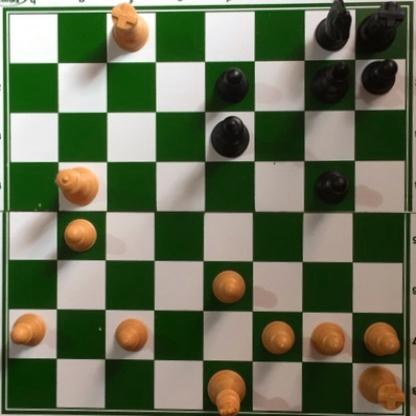black-bishop: (306, 58, 349, 104)
black-king: (209, 111, 251, 160)
black-knight: (312, 1, 354, 55)
black-pawn: (361, 57, 399, 95), (213, 67, 248, 105), (314, 170, 349, 205)
black-rook: (356, 1, 404, 54)
white-king: (205, 365, 247, 416)
white-pawn: (360, 319, 400, 359), (9, 308, 48, 348), (112, 314, 151, 354), (259, 319, 298, 358), (62, 216, 100, 256), (308, 321, 347, 358), (211, 270, 247, 305)
white-queen: (51, 164, 99, 206)
white-rook: (354, 360, 405, 412), (106, 2, 149, 55)
